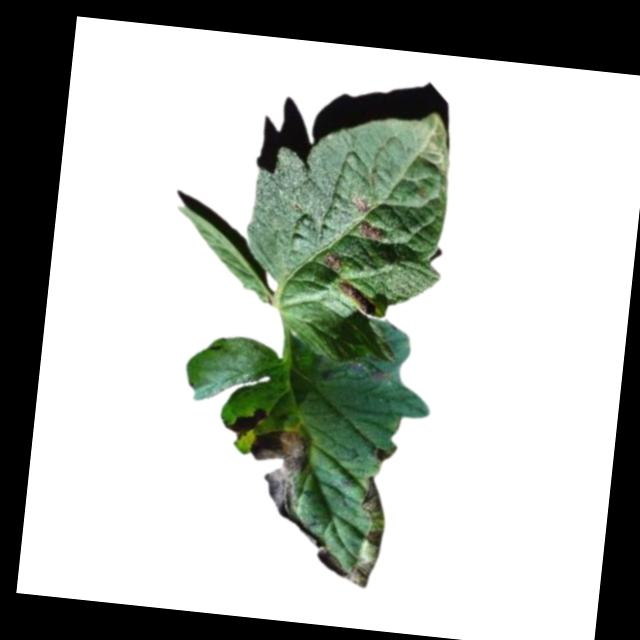Early_blight: (241, 424, 335, 547), (314, 472, 390, 592), (223, 402, 269, 443), (336, 279, 379, 318), (348, 358, 394, 385), (356, 220, 384, 242), (320, 249, 343, 272), (350, 196, 369, 212)
